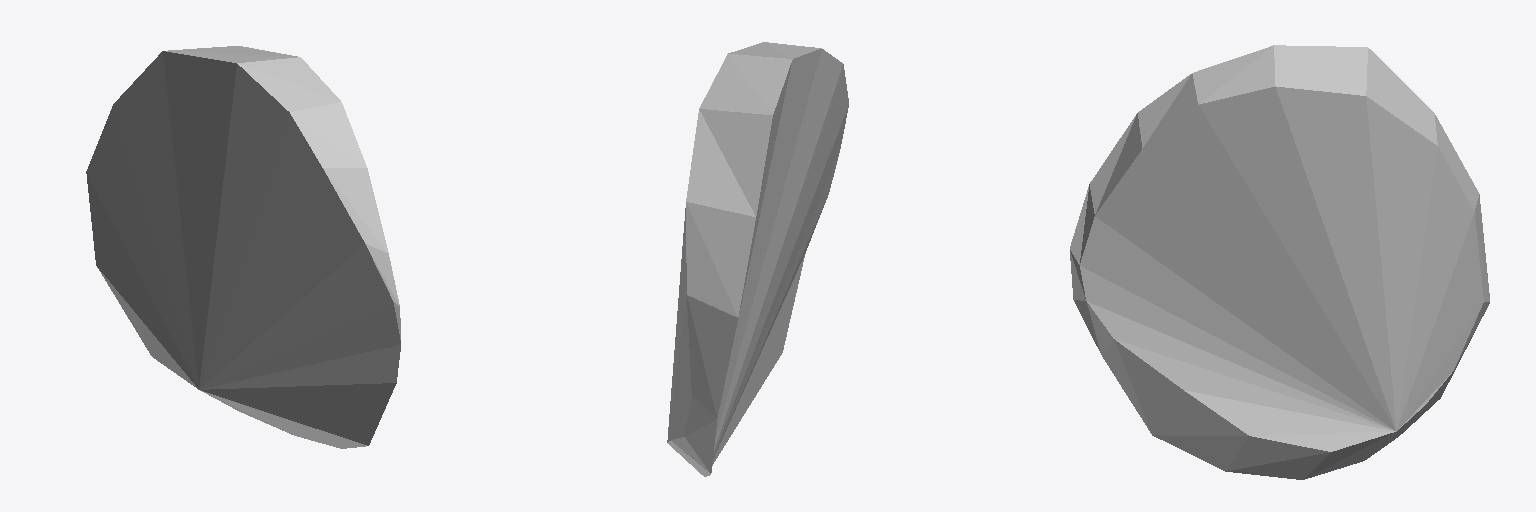
The model's file is epaule_gauche.obj.
3 views of the same model, side by side, from view 1: azimuth 30°, elevation 25°; view 2: azimuth 150°, elevation 25°; view 3: azimuth 270°, elevation 25° (orthographic).
Parts seen in each view (by area): view 1: Soi_SimpleArmor.004_Plane.015; view 2: Soi_SimpleArmor.004_Plane.015; view 3: Soi_SimpleArmor.004_Plane.015.
Boxes of the visible parts, x1,y1,x2,y2 form: Soi_SimpleArmor.004_Plane.015: [86, 46, 400, 448]; Soi_SimpleArmor.004_Plane.015: [667, 42, 848, 476]; Soi_SimpleArmor.004_Plane.015: [1070, 45, 1489, 479].
Bounding box in the file's own units: 0.0866 × 0.2365 × 0.2255.